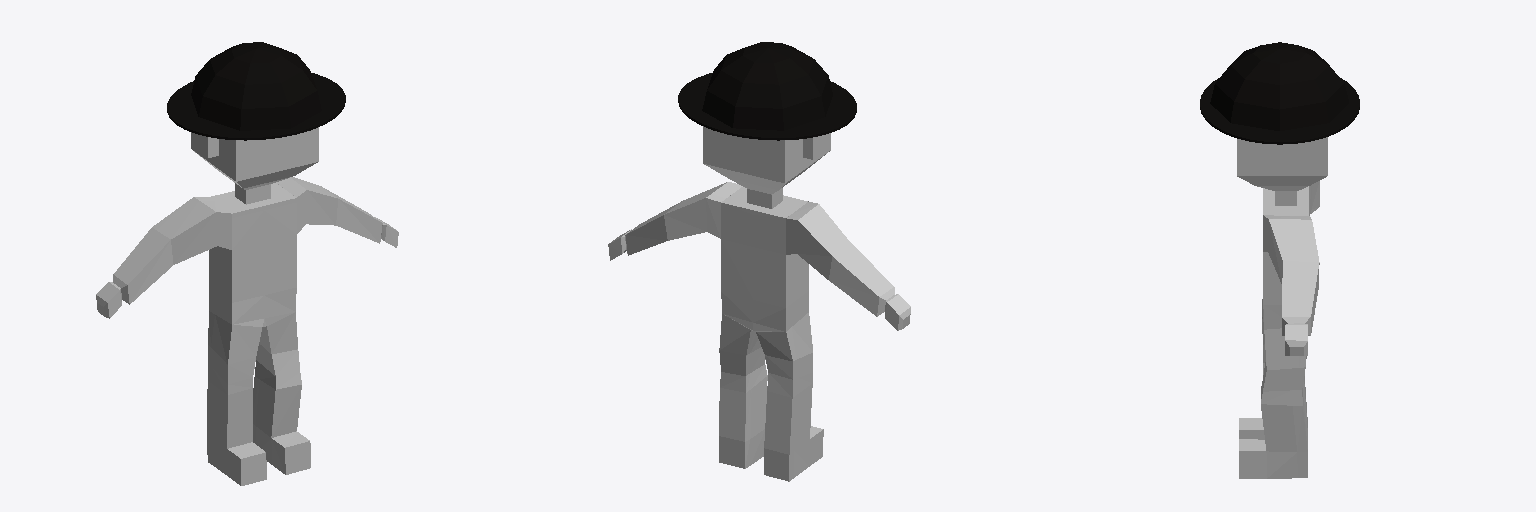
File: mainCharacter.obj
3 renders of one model, left to right at view 1: azimuth 30°, elevation 25°; view 2: azimuth 150°, elevation 25°; view 3: azimuth 270°, elevation 25°, orthographic.
Visible parts, largest first — view 1: Cube_Cube.001, Sphere; view 2: Cube_Cube.001, Sphere; view 3: Cube_Cube.001, Sphere.
Boxes of the visible parts, <box> form: Cube_Cube.001: <box>96,127,398,485</box>; Sphere: <box>167,42,345,140</box>; Cube_Cube.001: <box>608,126,910,481</box>; Sphere: <box>678,42,856,140</box>; Cube_Cube.001: <box>1237,137,1327,478</box>; Sphere: <box>1200,42,1359,144</box>.
Size of the model in its own units: 1.32 by 1.78 by 0.6237.